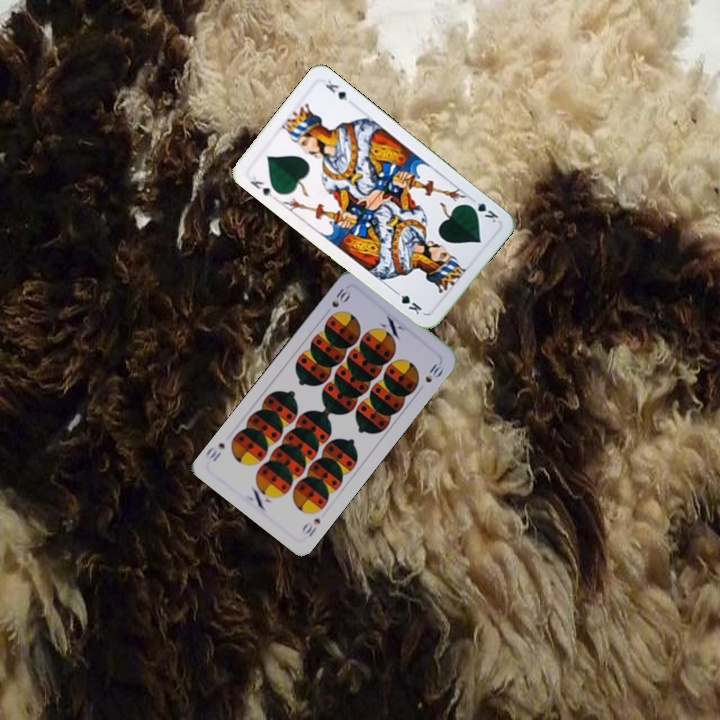GK: (464, 197, 501, 225), (246, 171, 275, 199)
S10: (327, 283, 354, 310), (298, 514, 323, 540)
